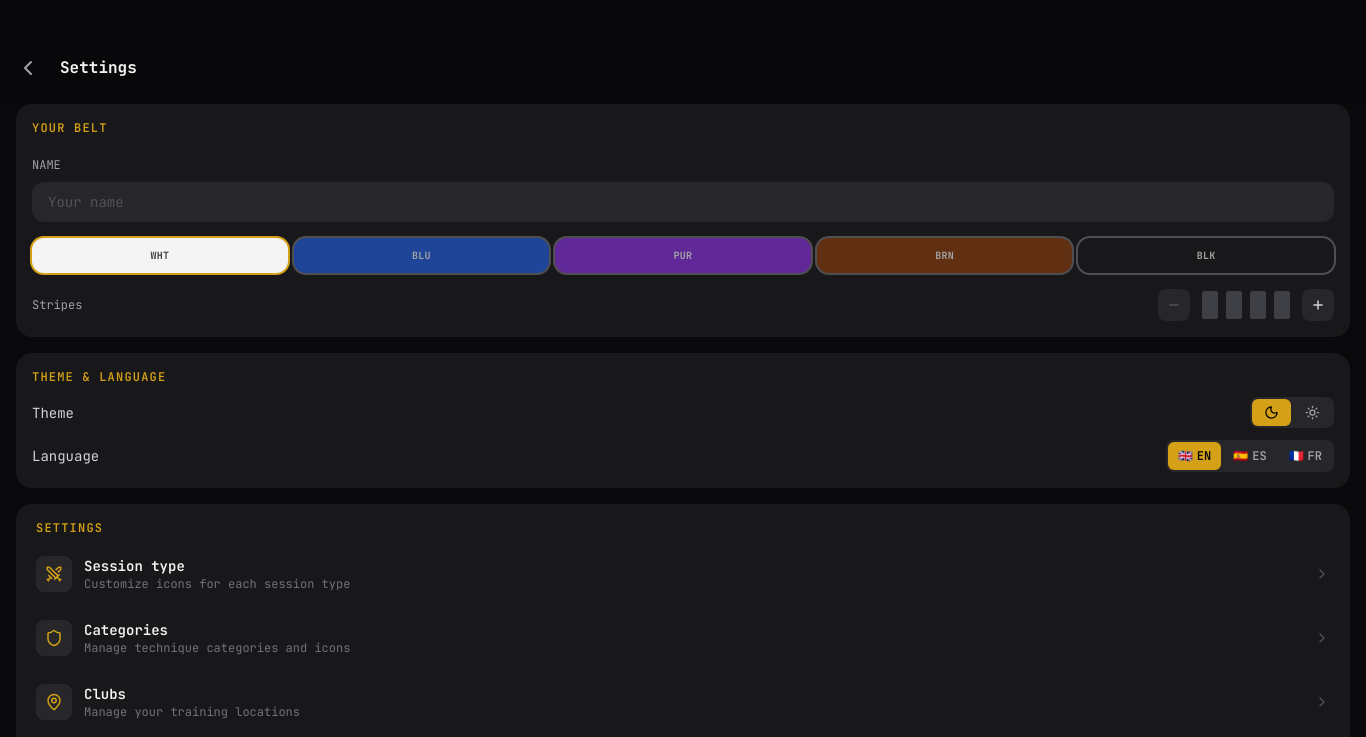
it: SettingsPage — theme mode › changes app language to Spanish
The width and height of the screenshot is (1366, 737).
Click the button "🇪🇸 ES": (1250,456) [1223,442,1277,470]
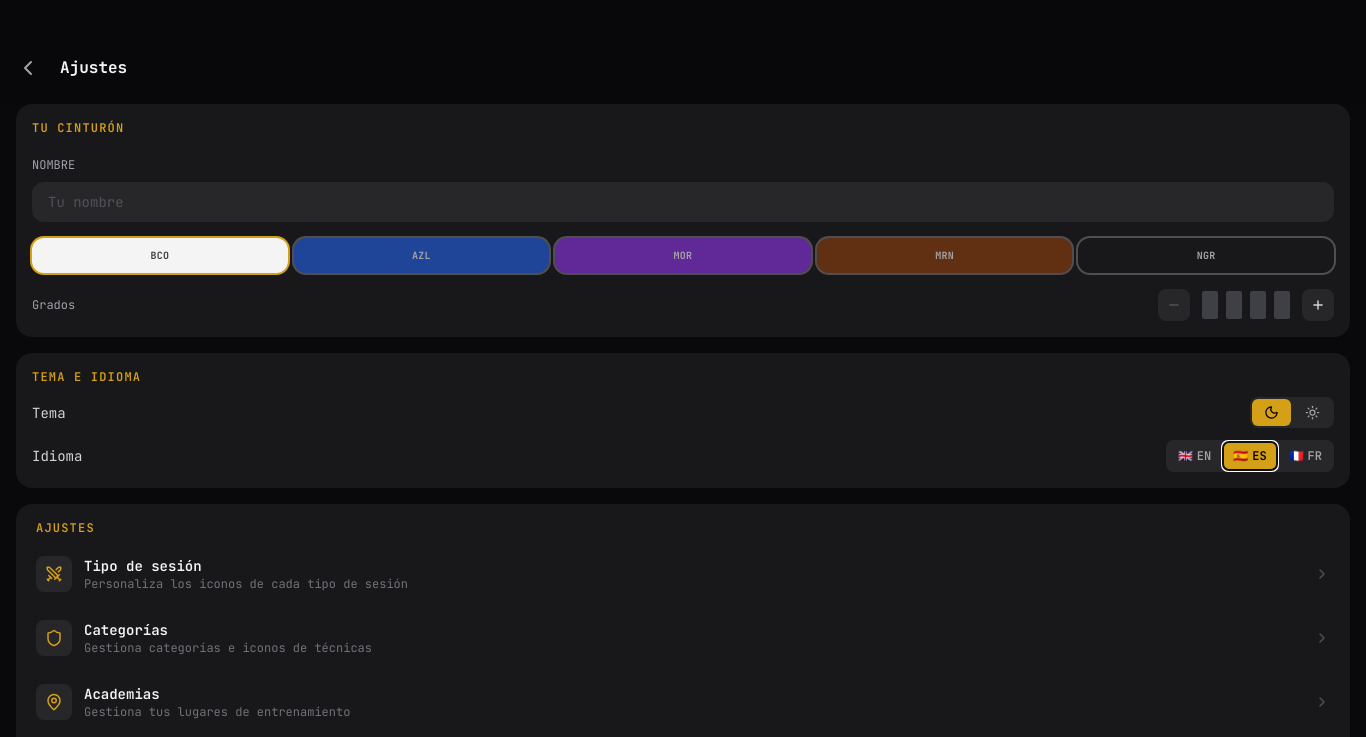
Now the heading "Ajustes" is shown, box [60,57,127,78]
